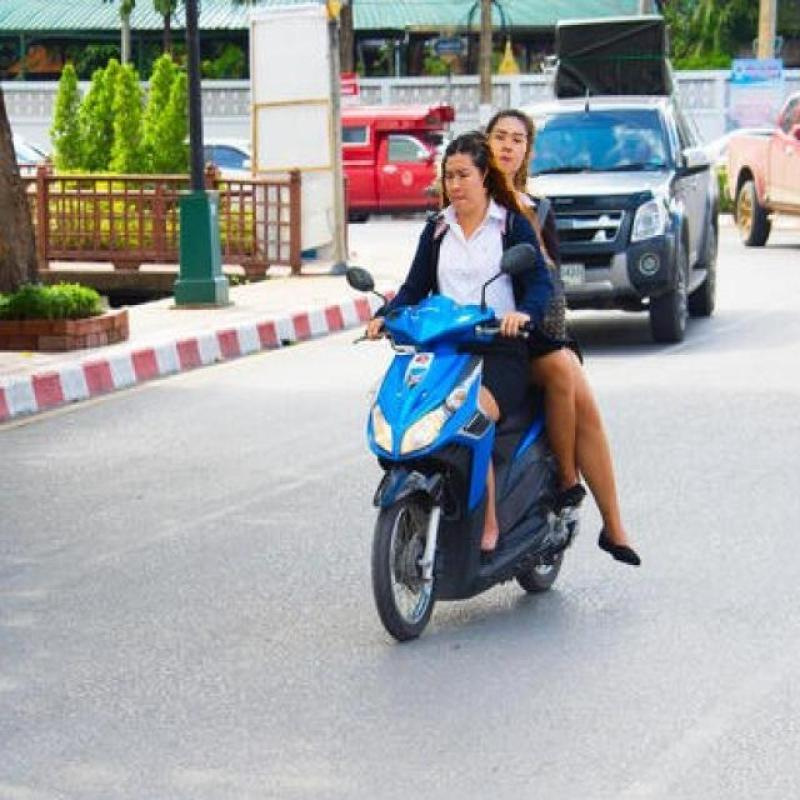nohelmet: (426, 130, 492, 225), (486, 109, 544, 193)
